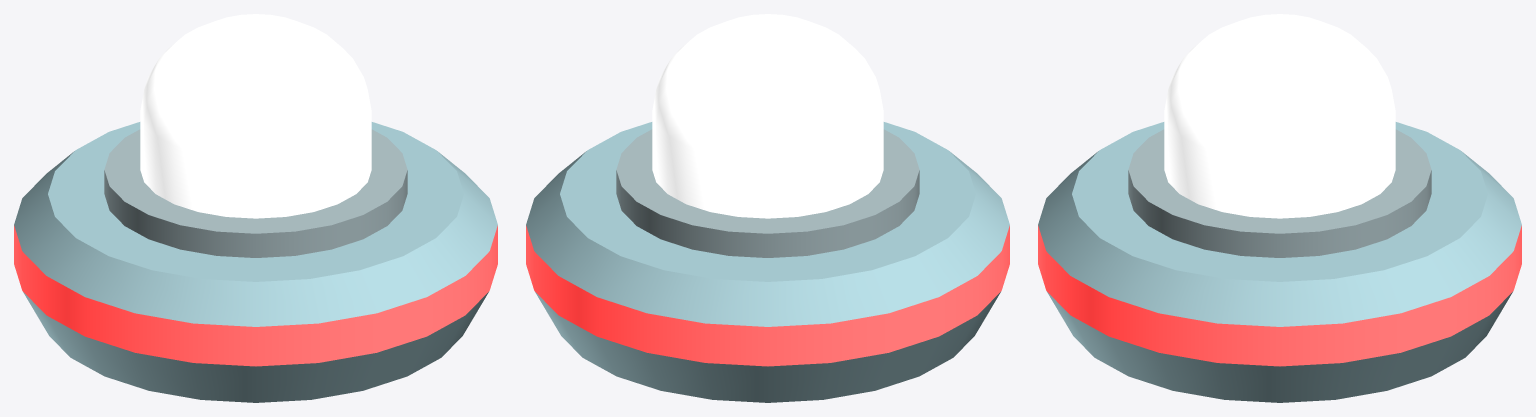
Rendered from enemy_ufoRed.glb.
The picture shows the model from 3 angles, left to right: view 1: azimuth 30°, elevation 25°; view 2: azimuth 150°, elevation 25°; view 3: azimuth 270°, elevation 25°; orthographic projection.
Visible parts, largest first — view 1: Mesh enemy_ufoRed_1, Mesh_enemy_ufoRed, Mesh enemy_ufoRed_3, Mesh enemy_ufoRed_2; view 2: Mesh enemy_ufoRed_1, Mesh_enemy_ufoRed, Mesh enemy_ufoRed_3, Mesh enemy_ufoRed_2; view 3: Mesh enemy_ufoRed_1, Mesh_enemy_ufoRed, Mesh enemy_ufoRed_3, Mesh enemy_ufoRed_2.
Boxes of the visible parts, x1,y1,x2,y2 form: Mesh enemy_ufoRed_1: (14, 122, 497, 402); Mesh_enemy_ufoRed: (140, 14, 371, 218); Mesh enemy_ufoRed_3: (14, 225, 497, 366); Mesh enemy_ufoRed_2: (104, 129, 407, 257); Mesh enemy_ufoRed_1: (526, 122, 1009, 402); Mesh_enemy_ufoRed: (652, 14, 883, 218); Mesh enemy_ufoRed_3: (526, 225, 1009, 366); Mesh enemy_ufoRed_2: (616, 129, 919, 257); Mesh enemy_ufoRed_1: (1038, 122, 1521, 402); Mesh_enemy_ufoRed: (1164, 14, 1395, 218); Mesh enemy_ufoRed_3: (1038, 225, 1521, 366); Mesh enemy_ufoRed_2: (1128, 129, 1431, 257).
Size of the model in its own units: 1 by 0.6505 by 1.
